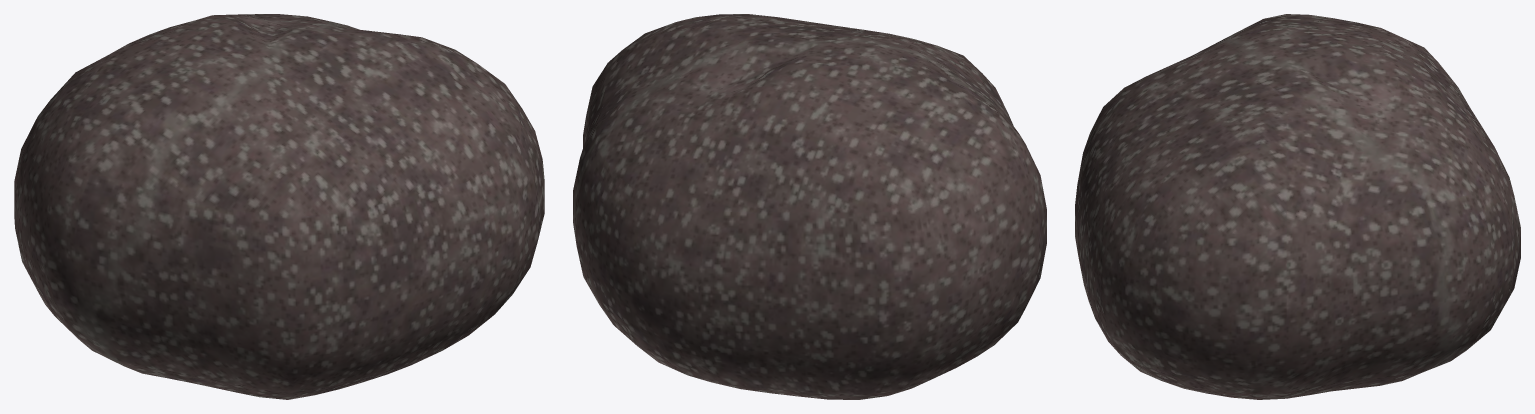
Rendered from plunge_boulder_08.glb.
The picture shows the model from 3 angles, left to right: view 1: azimuth 30°, elevation 25°; view 2: azimuth 150°, elevation 25°; view 3: azimuth 270°, elevation 25°; orthographic projection. The views are drawn at different scales.
Parts seen in each view (by area): view 1: plunge_boulder_08; view 2: plunge_boulder_08; view 3: plunge_boulder_08.
Boxes of the visible parts, x1,y1,x2,y2 form: plunge_boulder_08: [14, 14, 544, 399]; plunge_boulder_08: [573, 14, 1046, 399]; plunge_boulder_08: [1075, 14, 1520, 399].
Bounding box in the file's own units: 0.0707 × 0.0468 × 0.0615.
1 material, 1 textured.
